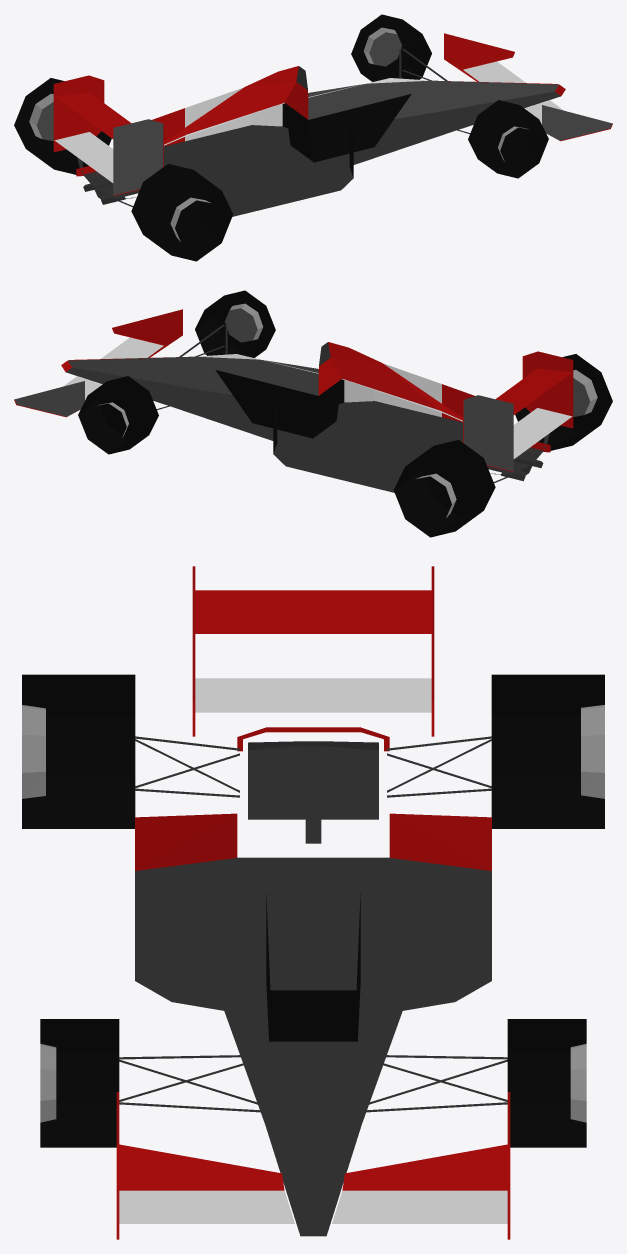
File: ps2_save-icons_segaagesvol8-virtualracingflatout.glb
3 renders of one model, top to bottom at view 1: azimuth 30°, elevation 25°; view 2: azimuth 150°, elevation 25°; view 3: azimuth 270°, elevation 25°, orthographic. The views are drawn at different scales.
Visible parts, largest first — view 1: icon1.ico; view 2: icon1.ico; view 3: icon1.ico.
Boxes of the visible parts, <box> form: icon1.ico: <box>14,14,612,261</box>; icon1.ico: <box>14,290,612,537</box>; icon1.ico: <box>22,566,604,1239</box>.
Size of the model in its own units: 4.75 by 1.06 by 2.5.
Materials: 1 (1 with a texture image).
